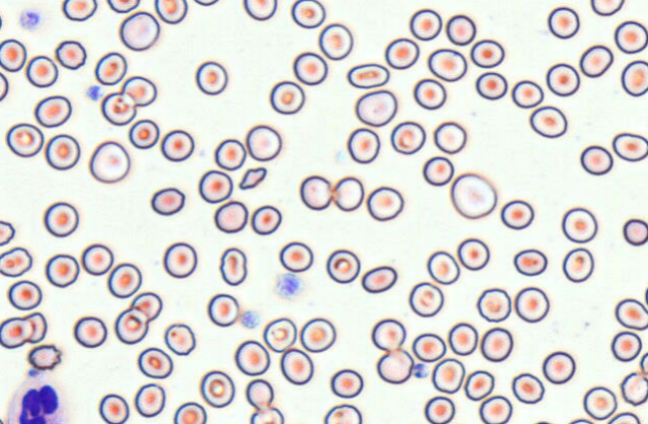GRAN: (5, 372, 67, 424)
PLT: (274, 272, 305, 300), (17, 9, 42, 34), (241, 308, 262, 329), (84, 83, 103, 102), (415, 364, 430, 379)
RBC: (450, 172, 497, 219), (89, 140, 130, 183), (119, 11, 160, 51), (354, 89, 397, 127), (245, 124, 282, 161), (199, 370, 235, 408), (234, 339, 270, 376), (44, 133, 80, 170), (366, 185, 403, 221), (561, 206, 597, 243), (5, 122, 43, 157), (318, 22, 353, 60), (427, 48, 467, 81), (43, 201, 79, 237), (376, 349, 413, 384), (299, 317, 336, 352), (162, 241, 197, 278), (279, 347, 313, 385), (408, 281, 443, 317), (107, 262, 142, 298), (514, 286, 549, 322), (114, 307, 148, 344), (529, 105, 567, 138), (476, 287, 511, 322), (325, 248, 360, 283), (100, 91, 136, 125), (346, 127, 380, 163), (269, 80, 305, 114), (431, 358, 465, 393), (583, 385, 617, 420), (198, 169, 233, 203), (262, 317, 296, 352), (390, 120, 425, 154), (292, 51, 327, 85), (331, 175, 364, 211), (299, 174, 332, 210), (34, 95, 71, 127), (426, 250, 460, 284), (45, 253, 79, 287), (546, 62, 580, 96), (371, 318, 406, 351), (213, 200, 248, 233), (480, 327, 513, 362), (195, 60, 228, 95), (137, 347, 173, 379), (73, 315, 107, 348), (614, 20, 647, 54), (94, 51, 127, 85), (579, 44, 613, 77), (384, 37, 419, 69), (562, 247, 594, 282), (347, 62, 389, 88), (163, 322, 196, 355), (542, 351, 575, 384), (433, 121, 466, 154), (160, 129, 194, 161), (207, 293, 239, 327), (7, 279, 42, 310), (121, 75, 156, 106), (278, 241, 313, 272), (219, 247, 247, 285), (0, 316, 33, 348), (614, 298, 647, 330), (25, 55, 58, 87), (511, 372, 544, 404), (457, 237, 489, 270), (409, 8, 442, 40), (547, 6, 579, 39), (413, 78, 446, 110), (134, 383, 165, 417), (612, 132, 647, 162), (214, 138, 246, 170), (610, 330, 642, 362), (81, 243, 113, 275), (447, 322, 478, 355), (580, 144, 613, 175), (329, 368, 363, 398), (412, 332, 446, 362), (500, 199, 534, 229), (361, 265, 397, 293), (0, 246, 32, 277), (463, 369, 494, 401), (422, 155, 454, 186), (478, 394, 512, 423), (470, 39, 504, 68), (290, 0, 325, 28), (150, 187, 185, 215), (621, 59, 647, 96), (128, 118, 159, 149), (250, 204, 281, 235), (445, 14, 476, 45), (130, 291, 162, 321), (513, 248, 547, 276), (620, 371, 647, 406), (98, 393, 129, 423), (245, 378, 274, 410), (511, 79, 543, 108), (475, 71, 507, 100), (55, 40, 86, 69), (0, 38, 26, 72), (424, 395, 455, 423), (154, 0, 187, 24), (323, 403, 362, 423), (23, 311, 47, 343), (62, 0, 97, 21), (173, 401, 206, 423), (622, 218, 647, 246), (243, 0, 277, 20), (249, 406, 283, 423), (590, 0, 624, 16), (106, 0, 140, 13), (0, 219, 15, 246), (607, 411, 640, 423), (0, 71, 8, 101), (639, 351, 647, 379), (567, 417, 593, 423), (193, 0, 219, 6), (532, 420, 555, 424), (644, 285, 648, 306), (0, 9, 3, 32)
Schistocyte: (26, 344, 62, 370), (239, 168, 267, 190)
